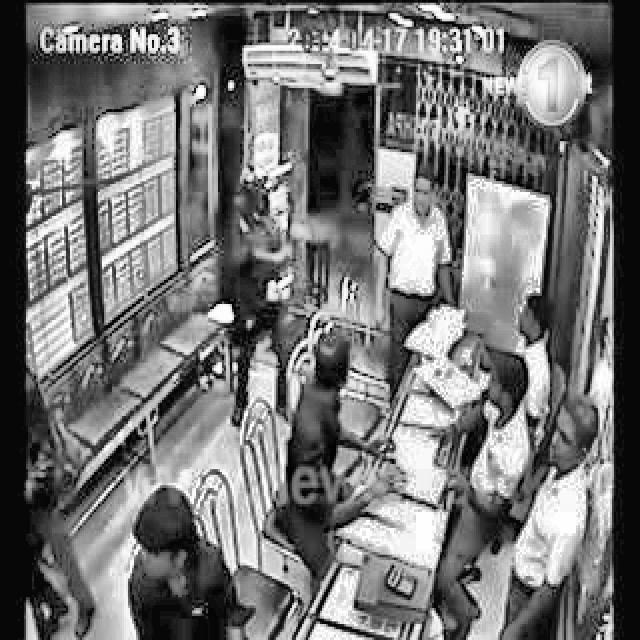robbery: (204, 169, 330, 430)
